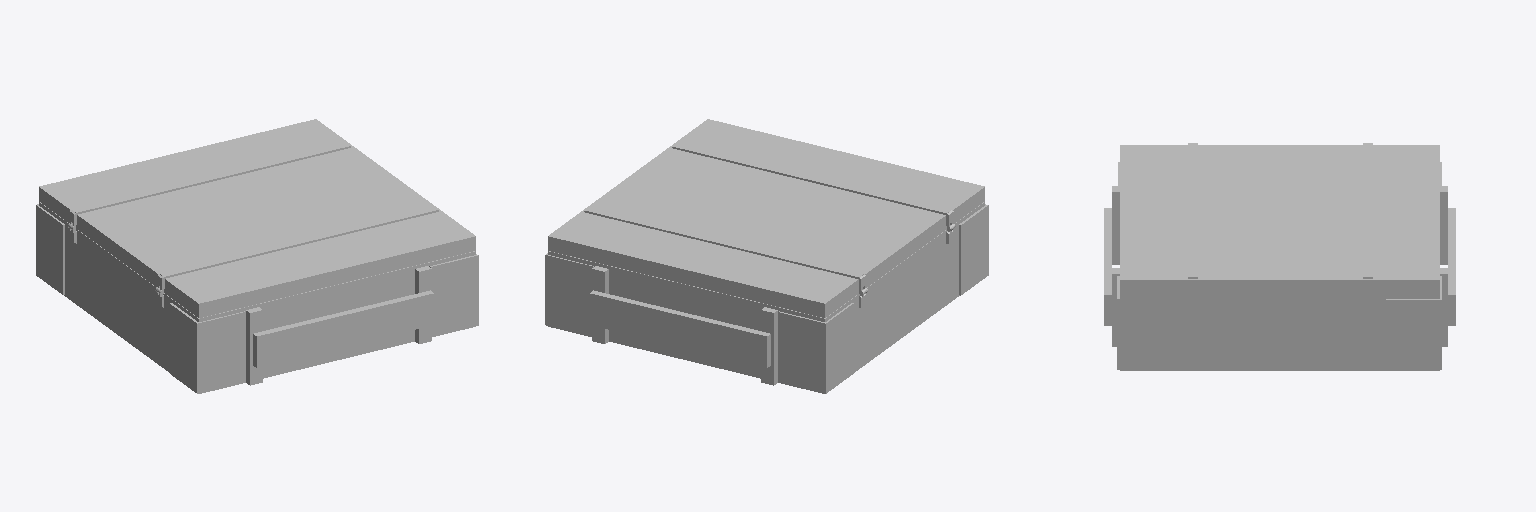
Rendered from spawner_ammo_box_1.obj.
3 renders of one model, left to right at view 1: azimuth 30°, elevation 25°; view 2: azimuth 150°, elevation 25°; view 3: azimuth 270°, elevation 25°, orthographic.
Visible parts, largest first — view 1: Cube; view 2: Cube; view 3: Cube.
Part boxes in pixels (x1,y1,x2,y2): Cube: (36,119,478,393); Cube: (545,119,988,393); Cube: (1104,143,1455,370).
Bounding box in the file's own units: 2.04 × 0.6356 × 2.2.